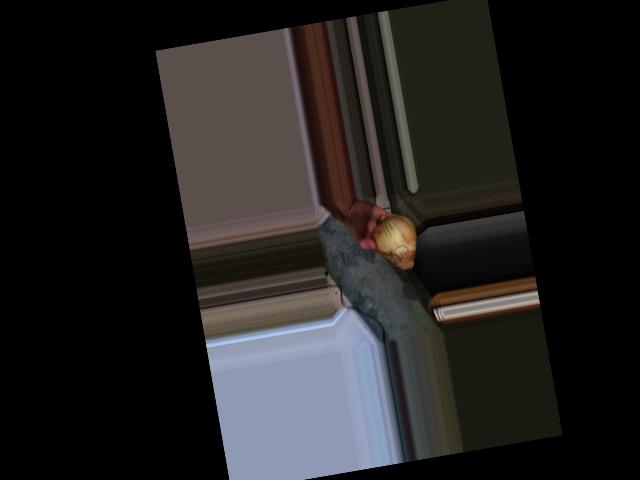onion: (368, 213, 419, 276)
